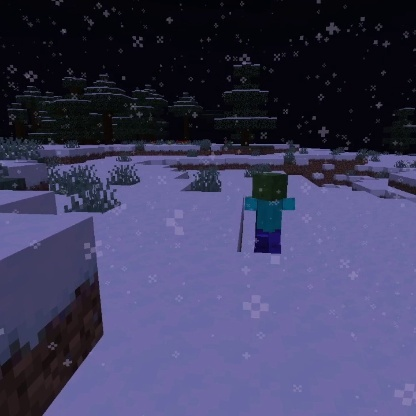zombie: (242, 169, 299, 255)
